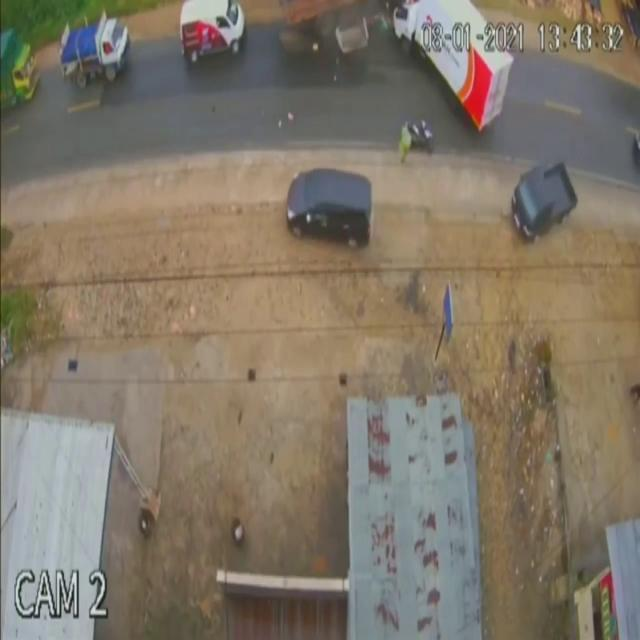accident: (272, 0, 514, 132)
